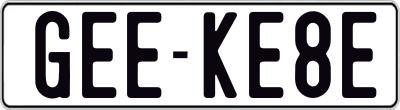8: (293, 9, 331, 97)
E: (81, 11, 120, 100), (246, 10, 284, 101), (125, 9, 161, 101), (340, 10, 377, 98)
G: (32, 9, 71, 102)
K: (204, 11, 237, 102)
